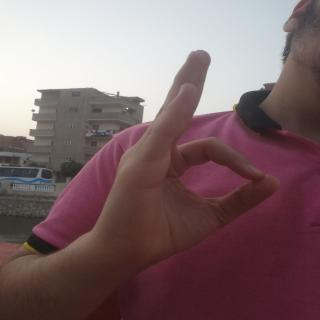Space: (97, 44, 286, 260)
